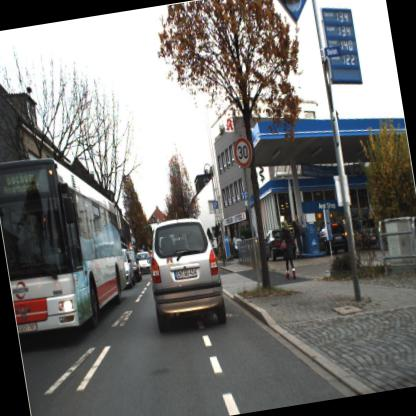prohibitory: (230, 136, 258, 174)
